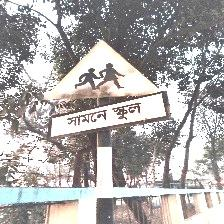School-in-front: (43, 39, 168, 140)
